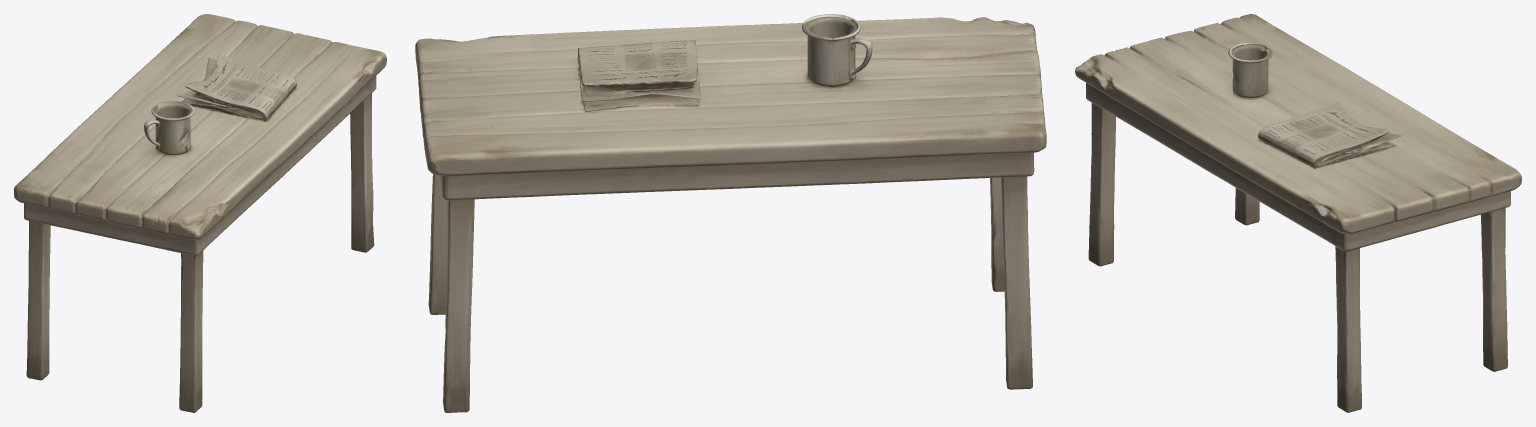
File: silo81_table.glb
The picture shows the model from 3 angles, left to right: view 1: azimuth 30°, elevation 25°; view 2: azimuth 150°, elevation 25°; view 3: azimuth 270°, elevation 25°; orthographic projection. The views are drawn at different scales.
Visible parts, largest first — view 1: tripo_node_ba340331-bc03-4e20-93b0-e1033f141104; view 2: tripo_node_ba340331-bc03-4e20-93b0-e1033f141104; view 3: tripo_node_ba340331-bc03-4e20-93b0-e1033f141104.
Part boxes in pixels (x1,y1,x2,y2): tripo_node_ba340331-bc03-4e20-93b0-e1033f141104: [14, 14, 386, 412]; tripo_node_ba340331-bc03-4e20-93b0-e1033f141104: [415, 14, 1046, 412]; tripo_node_ba340331-bc03-4e20-93b0-e1033f141104: [1075, 14, 1521, 412].
Size of the model in its own units: 0.9795 by 0.5208 by 0.8876.
Materials: 1 (1 with a texture image).
